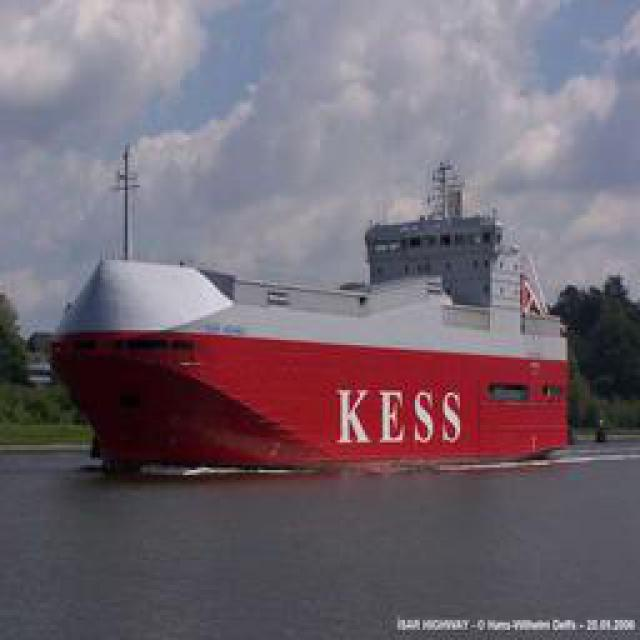Ship: (56, 156, 571, 481)
